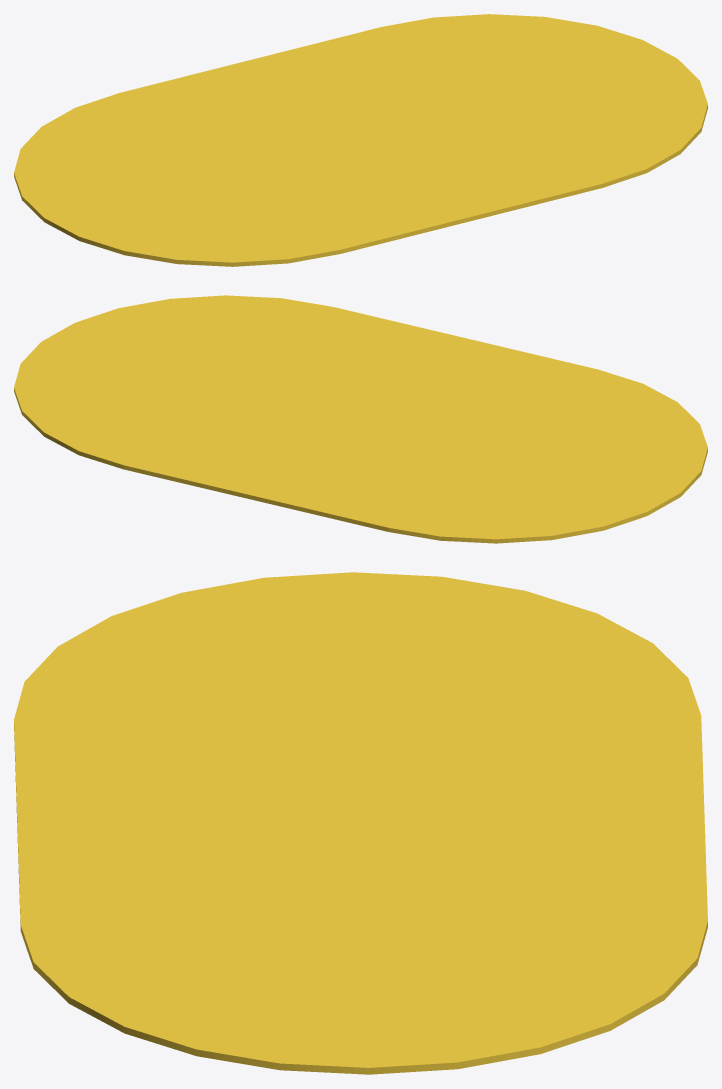
File: bed.glb
The picture shows the model from 3 angles, top to bottom: view 1: azimuth 30°, elevation 25°; view 2: azimuth 150°, elevation 25°; view 3: azimuth 270°, elevation 25°; orthographic projection. The views are drawn at different scales.
Visible parts, largest first — view 1: rugRounded.002; view 2: rugRounded.002; view 3: rugRounded.002.
Boxes of the visible parts, bbox=[...] form: rugRounded.002: bbox=[14, 14, 707, 266]; rugRounded.002: bbox=[14, 295, 707, 543]; rugRounded.002: bbox=[14, 572, 707, 1074].
Size of the model in its own units: 1.07 by 0.00683 by 0.6344.
